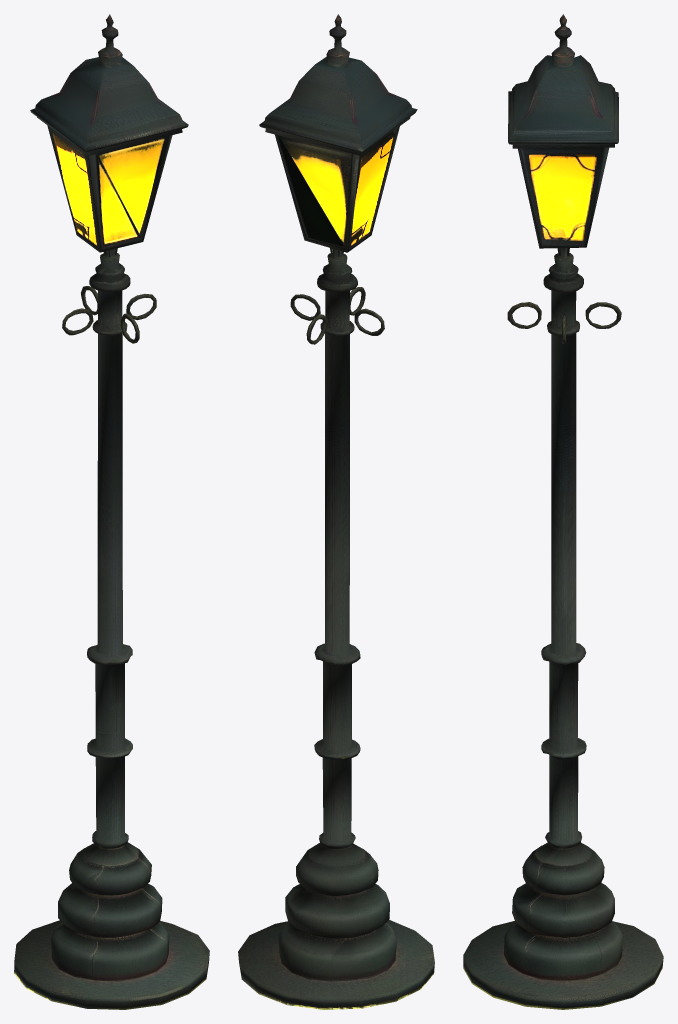
The model's file is lamp-post.glb.
The picture shows the model from 3 angles, left to right: view 1: azimuth 30°, elevation 25°; view 2: azimuth 150°, elevation 25°; view 3: azimuth 270°, elevation 25°; orthographic projection.
Bounding box in the file's own units: 0.6409 × 3.4 × 0.6478.
Materials: 1 (1 with a texture image).
